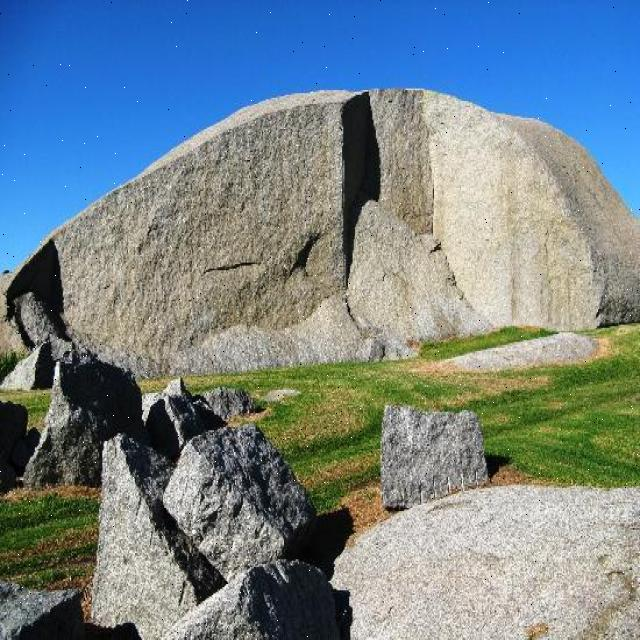Igneous: (1, 50, 640, 365), (370, 404, 514, 506)
